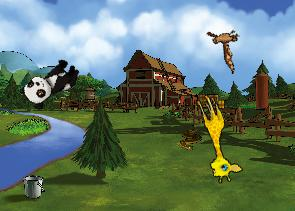eagle: (196, 17, 255, 74)
giraffe: (184, 91, 245, 186)
panda: (17, 52, 84, 113)
